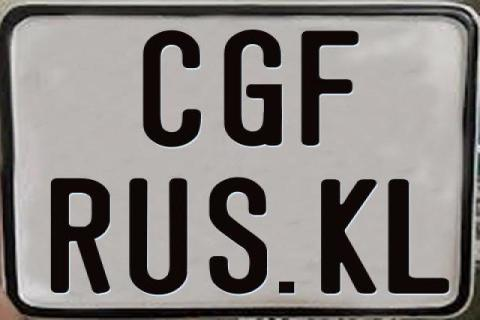C: (143, 29, 207, 149)
F: (300, 29, 361, 147)
G: (222, 29, 284, 149)
K: (321, 178, 378, 292)
L: (385, 177, 449, 293)
R: (50, 177, 111, 297)
S: (206, 177, 270, 299)
U: (129, 178, 188, 298)
